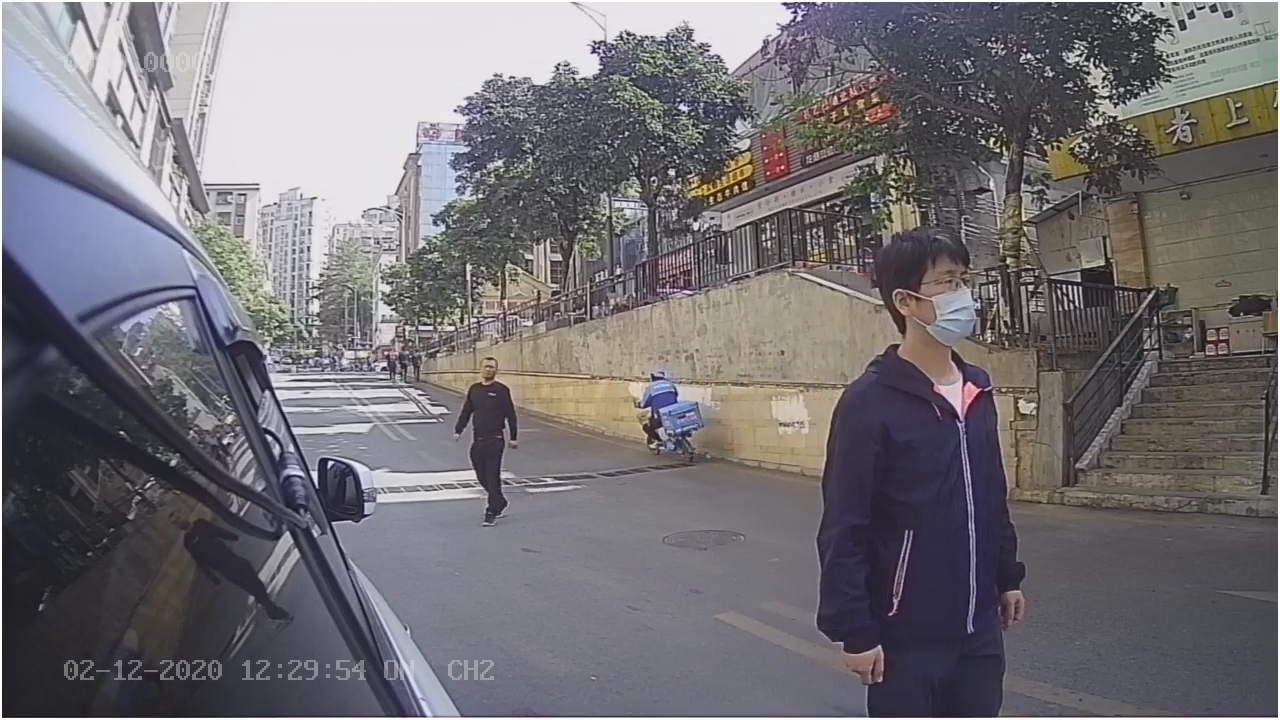person: (812, 225, 1035, 687), (435, 350, 527, 532)
